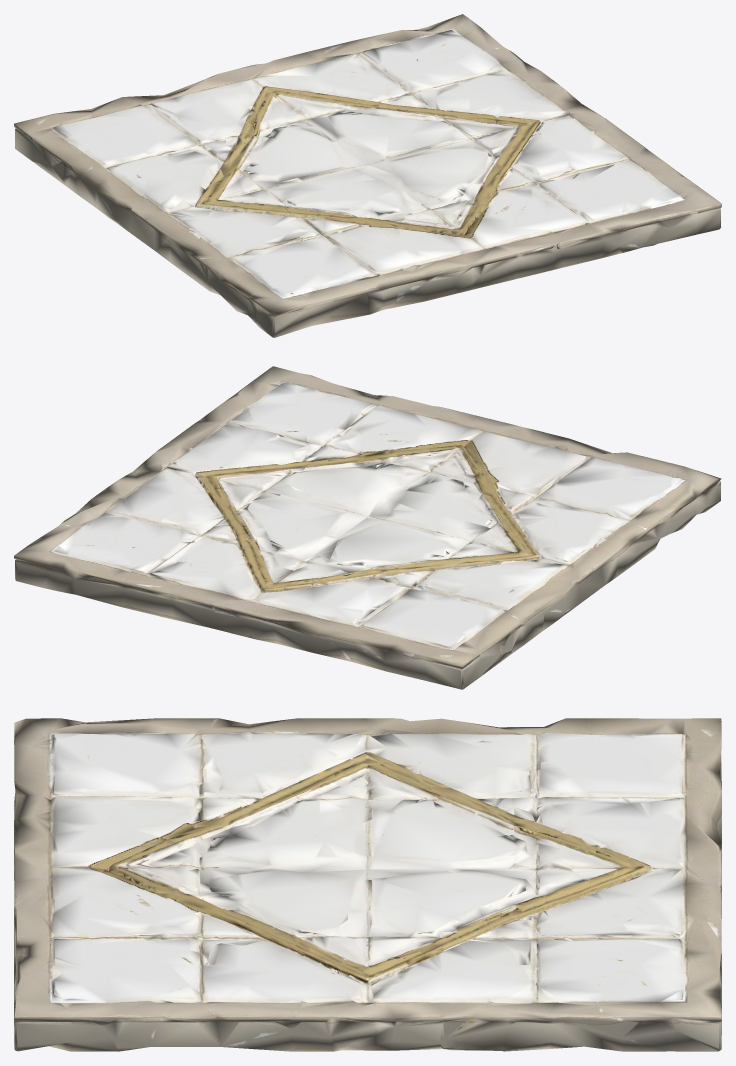
The model's file is floor_tile.glb.
3 views of the same model, one above another, from view 1: azimuth 30°, elevation 25°; view 2: azimuth 150°, elevation 25°; view 3: azimuth 270°, elevation 25° (orthographic). The views are drawn at different scales.
Parts seen in each view (by area): view 1: Meshy_AI_Golden_Frame_on_White_0528115113_image-to-3d-textur; view 2: Meshy_AI_Golden_Frame_on_White_0528115113_image-to-3d-textur; view 3: Meshy_AI_Golden_Frame_on_White_0528115113_image-to-3d-textur.
Boxes of the visible parts, box(x1,y1,x2,y2) form: Meshy_AI_Golden_Frame_on_White_0528115113_image-to-3d-textur: box(14, 14, 721, 337); Meshy_AI_Golden_Frame_on_White_0528115113_image-to-3d-textur: box(14, 366, 721, 689); Meshy_AI_Golden_Frame_on_White_0528115113_image-to-3d-textur: box(14, 718, 721, 1051).
Bounding box in the file's own units: 1.9 × 0.1194 × 1.9.
1 material, 1 textured.
